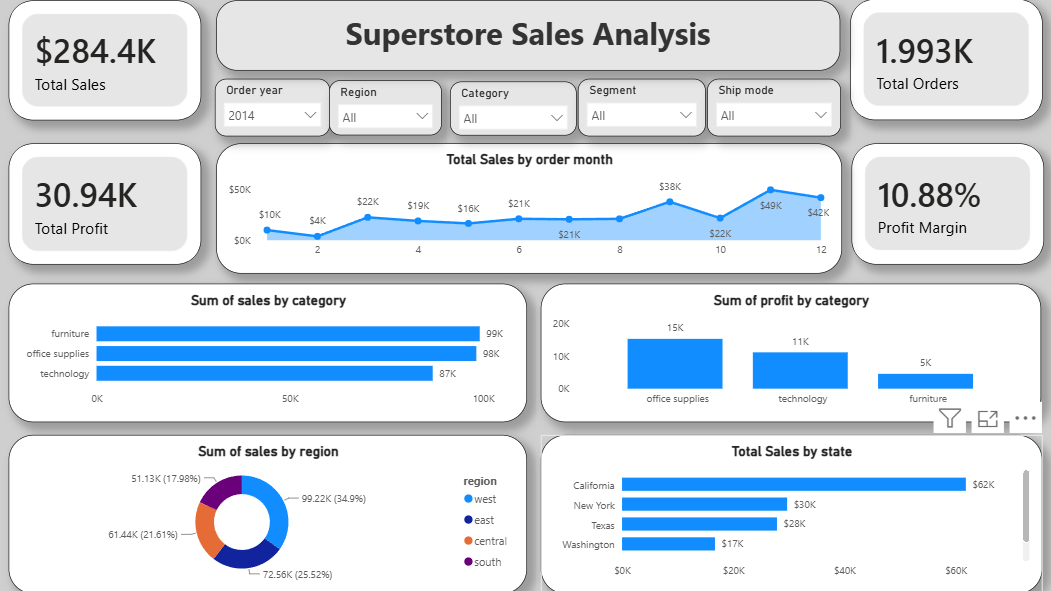

This screenshot's page, from the dashboard's own definition file:
{"tool":"powerbi","page":{"name":"Page 1","canvas":[1280,720],"ordinal":0},"visuals":[{"type":"cardVisual","fields":{"Data":["filename.Total Orders"]},"box":[1032.1,0,233.2,146.6],"z":0},{"type":"cardVisual","fields":{"Data":["filename.Total Sales"]},"box":[11,1.4,233.8,145.8],"z":1000},{"type":"cardVisual","fields":{"Data":["filename.Total Profit"]},"box":[11,174.7,233.8,147.2],"z":2000},{"type":"cardVisual","fields":{"Data":["filename.Profit Margin"]},"box":[1033.5,174.6,233.2,146.6],"z":3000},{"type":"lineChart","fields":{"Category":["filename.order month"],"Y":["filename.Total Sales"]},"box":[262.6,174.6,758.4,157.8],"z":4000},{"type":"clusteredBarChart","fields":{"Category":["filename.category"],"Y":["Sum(filename.sales)"]},"box":[11,345.2,628.5,167.8],"z":5000},{"type":"clusteredColumnChart","fields":{"Category":["filename.category"],"Y":["Sum(filename.profit)"]},"box":[657.4,345.2,606.5,167.8],"z":6000},{"type":"donutChart","fields":{"Category":["filename.region"],"Y":["Sum(filename.sales)"]},"box":[11,528.1,628.5,192.5],"z":7000},{"type":"barChart","fields":{"Category":["filename.state"],"Y":["filename.Total Sales"]},"box":[657.4,528.1,607.9,192.5],"z":8000},{"type":"slicer","fields":{"Values":["filename.order year"]},"box":[261.2,96.4,139.7,69.8],"z":9000},{"type":"slicer","fields":{"Values":["filename.region"]},"box":[400.8,99.2,136.9,67],"z":10000},{"type":"slicer","fields":{"Values":["filename.category"]},"box":[546.1,100.6,153.6,65.6],"z":11000},{"type":"slicer","fields":{"Values":["filename.segment"]},"box":[702.5,96.4,155,69.8],"z":12000},{"type":"slicer","fields":{"Values":["filename.ship mode"]},"box":[857.5,96.4,162,69.8],"z":13000},{"type":"textbox","box":[262.7,1.4,756.4,85.3],"z":14000}]}

Visuals, with their boxes in screenshot pixels (x1, y1, x2, y2), scaled from the page's 1280x720 canvas onto the 1051x591 screenshot:
cardVisual - filename.Total Orders: left=847, top=0, right=1039, bottom=120
cardVisual - filename.Total Sales: left=9, top=1, right=201, bottom=121
cardVisual - filename.Total Profit: left=9, top=143, right=201, bottom=264
cardVisual - filename.Profit Margin: left=849, top=143, right=1040, bottom=264
lineChart - filename.order month x filename.Total Sales: left=216, top=143, right=838, bottom=273
clusteredBarChart - filename.category x Sum(filename.sales): left=9, top=283, right=525, bottom=421
clusteredColumnChart - filename.category x Sum(filename.profit): left=540, top=283, right=1038, bottom=421
donutChart - filename.region x Sum(filename.sales): left=9, top=433, right=525, bottom=590
barChart - filename.state x filename.Total Sales: left=540, top=433, right=1039, bottom=590
slicer - filename.order year: left=214, top=79, right=329, bottom=136
slicer - filename.region: left=329, top=81, right=442, bottom=136
slicer - filename.category: left=448, top=83, right=575, bottom=136
slicer - filename.segment: left=577, top=79, right=704, bottom=136
slicer - filename.ship mode: left=704, top=79, right=837, bottom=136
textbox: left=216, top=1, right=837, bottom=71
